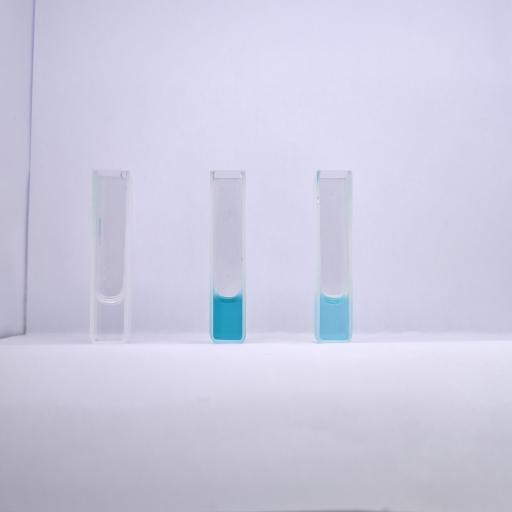cuvette: (90, 165, 129, 348), (208, 168, 248, 346), (315, 168, 354, 346)
liquid: (96, 295, 124, 341), (214, 294, 242, 340), (320, 295, 348, 338)
